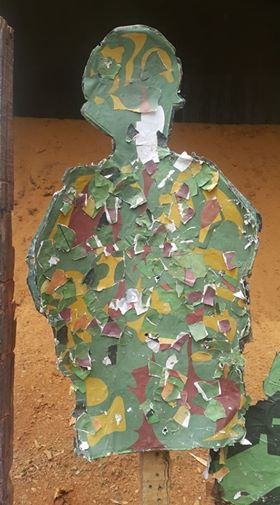Bullet: (162, 427, 168, 434), (144, 332, 150, 337), (155, 276, 160, 281)
